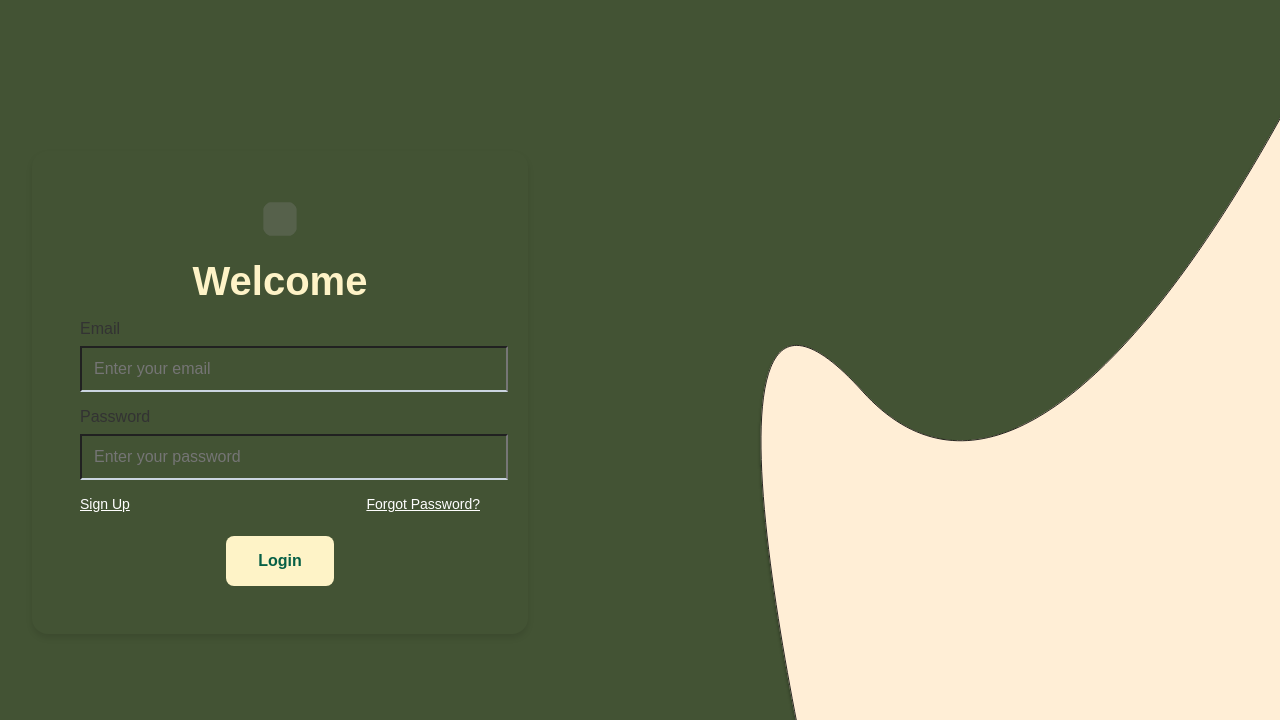
Test: Login Page › shows validation error for empty email
This screenshot has width=1280, height=720.
Try to submit without entering email
Click the button "Login" at (280, 561), box [226,536,334,586]
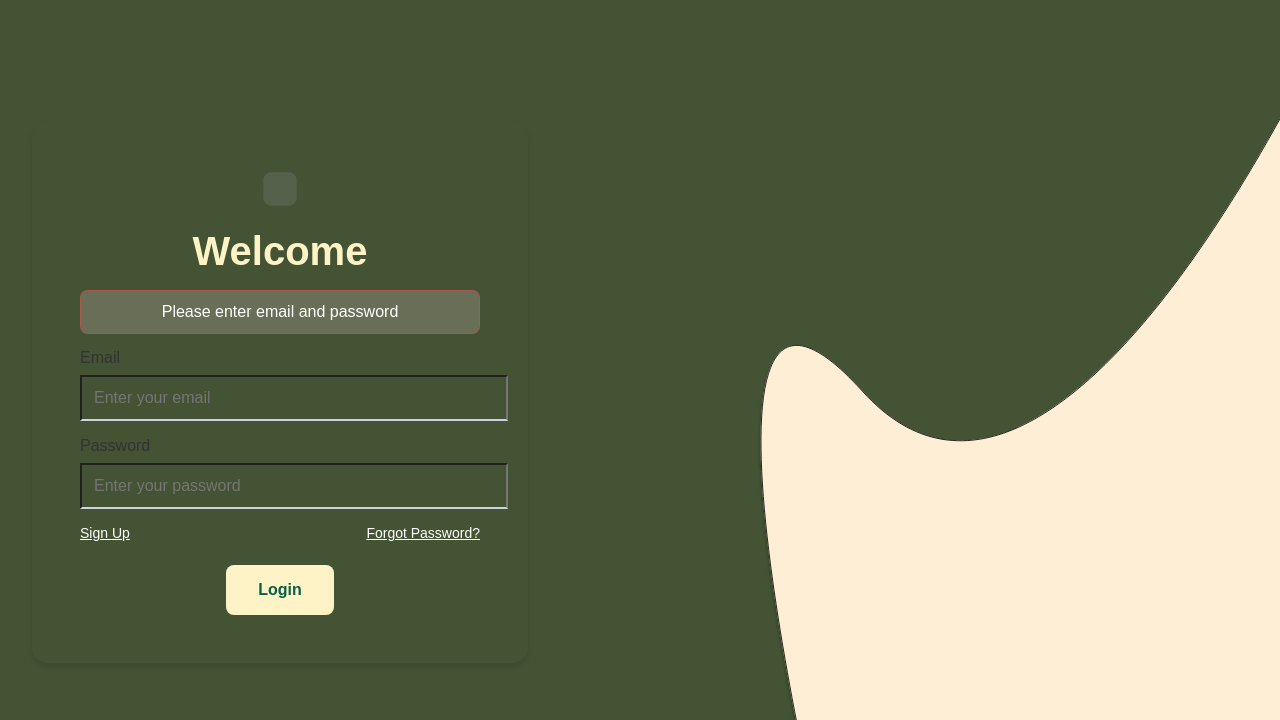
Expected: the text "Please enter email and password" is shown, [80,290,480,334]
